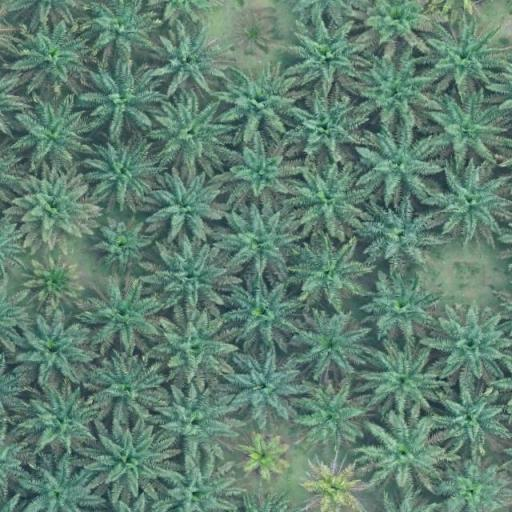Ganoderma: (314, 470, 357, 506), (246, 440, 286, 474)
